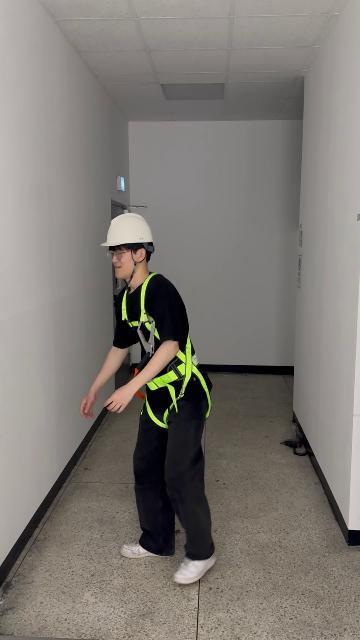helmet_worn: (99, 211, 156, 249)
shoe_not_worn: (173, 551, 216, 584), (120, 540, 168, 558)
vest_worn: (123, 280, 210, 424)
